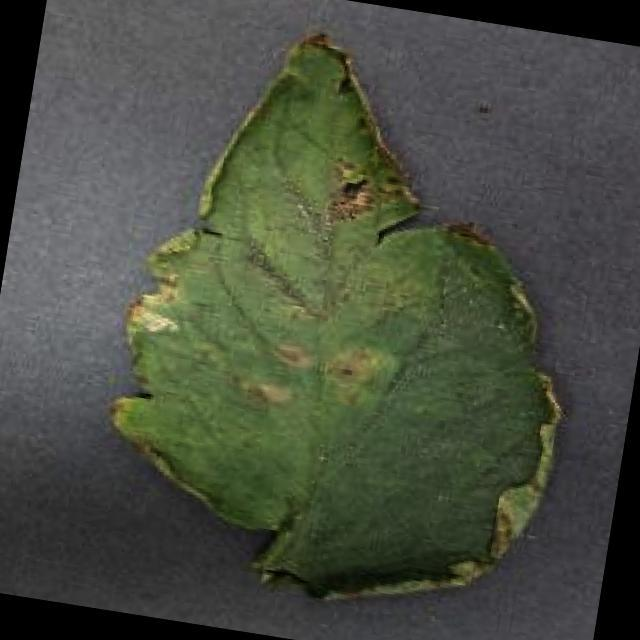Tomato bacterial spot leaf: (71, 0, 637, 640)
